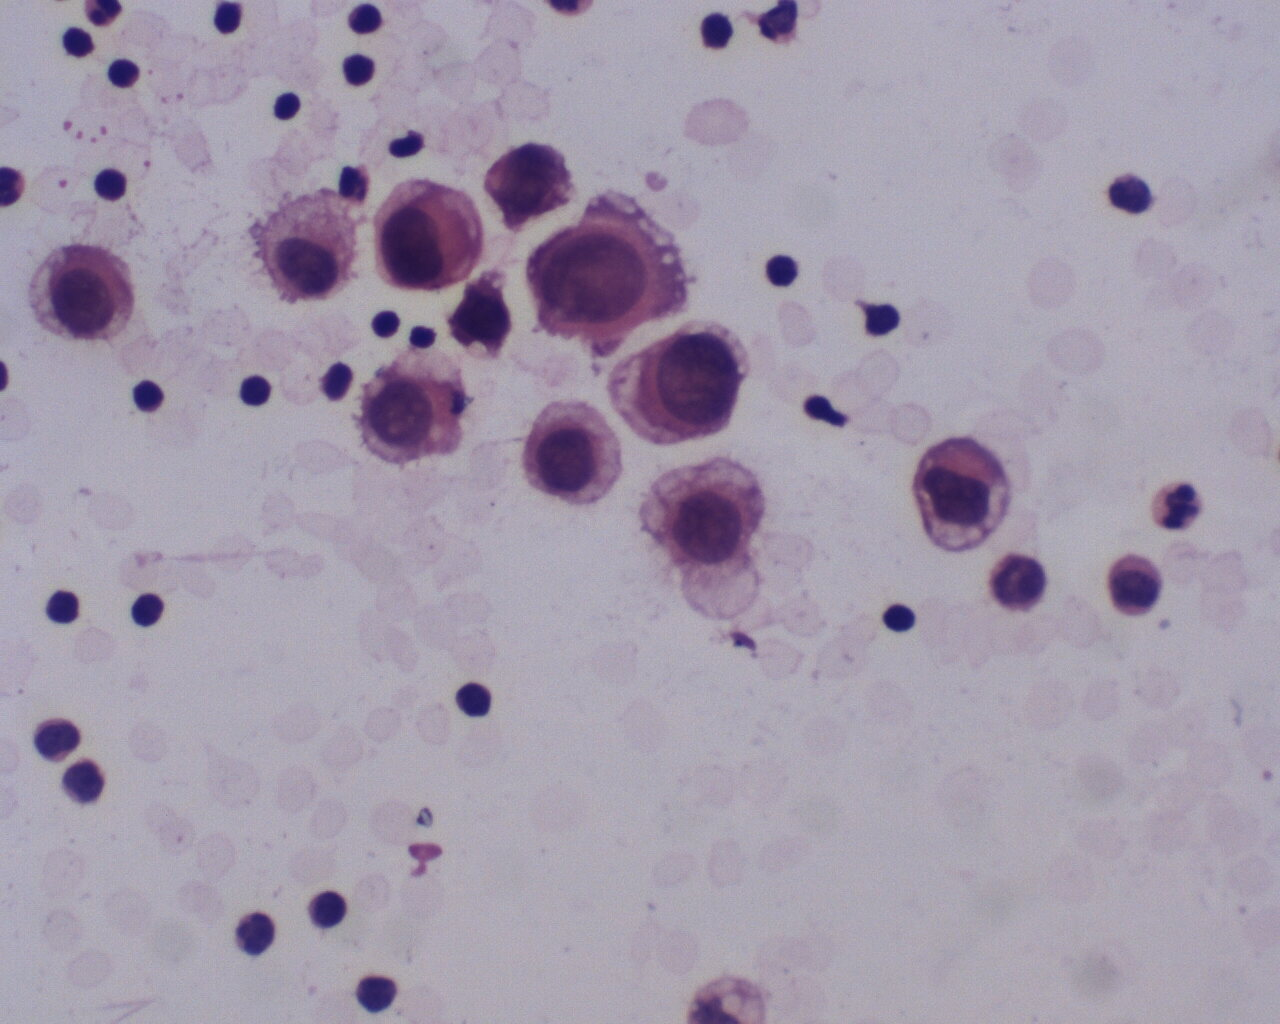ab: (528, 193, 695, 359), (643, 456, 777, 620), (611, 322, 757, 442), (908, 437, 1020, 558), (360, 351, 468, 471), (378, 177, 488, 292), (27, 238, 141, 348), (520, 401, 623, 509), (479, 138, 576, 228)
lymph: (451, 672, 504, 725), (44, 579, 89, 630), (126, 585, 174, 632), (305, 888, 354, 934), (234, 364, 277, 412), (269, 83, 310, 132), (129, 374, 172, 420), (763, 245, 804, 293), (878, 594, 923, 636), (90, 163, 133, 207), (107, 56, 147, 92)
neutro: (1149, 474, 1209, 534)
